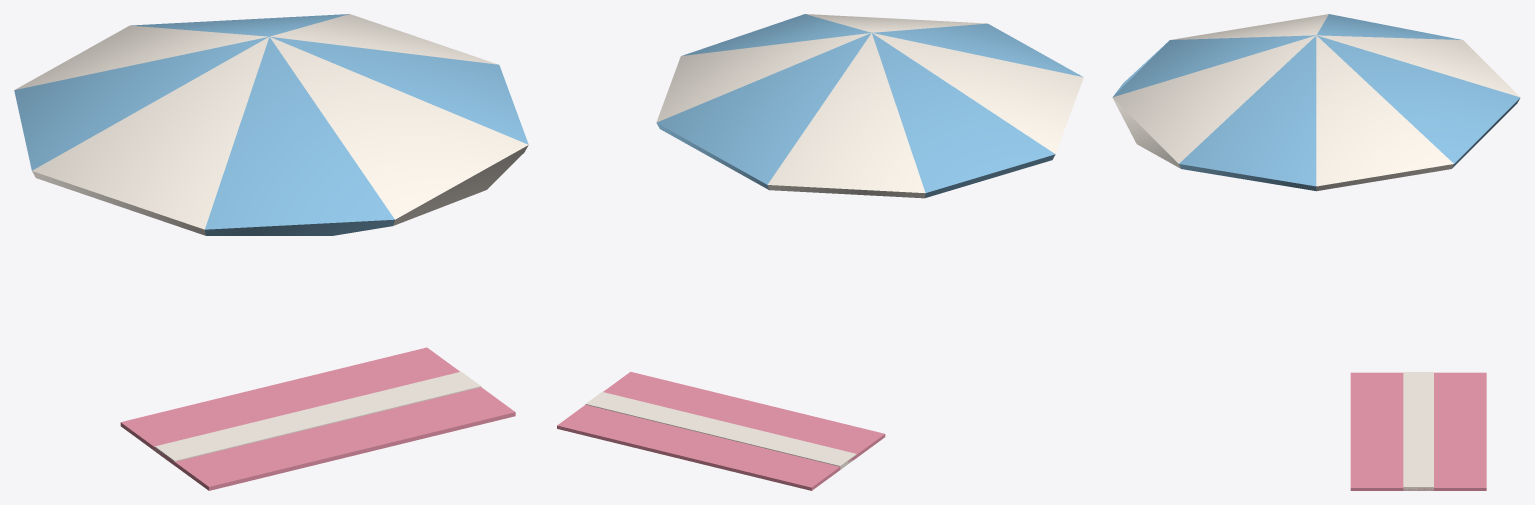
Rendered from beach_umbrella.glb.
3 views of the same model, side by side, from view 1: azimuth 30°, elevation 25°; view 2: azimuth 150°, elevation 25°; view 3: azimuth 270°, elevation 25° (orthographic). The views are drawn at different scales.
Visible parts, largest first — view 1: beach_umbrella; view 2: beach_umbrella; view 3: beach_umbrella.
Boxes of the visible parts, x1,y1,x2,y2 form: beach_umbrella: (14,14,528,490); beach_umbrella: (557,14,1083,490); beach_umbrella: (1112,14,1520,490).
Size of the model in its own units: 2.6 by 2.3 by 2.4.
1 material, 1 textured.
